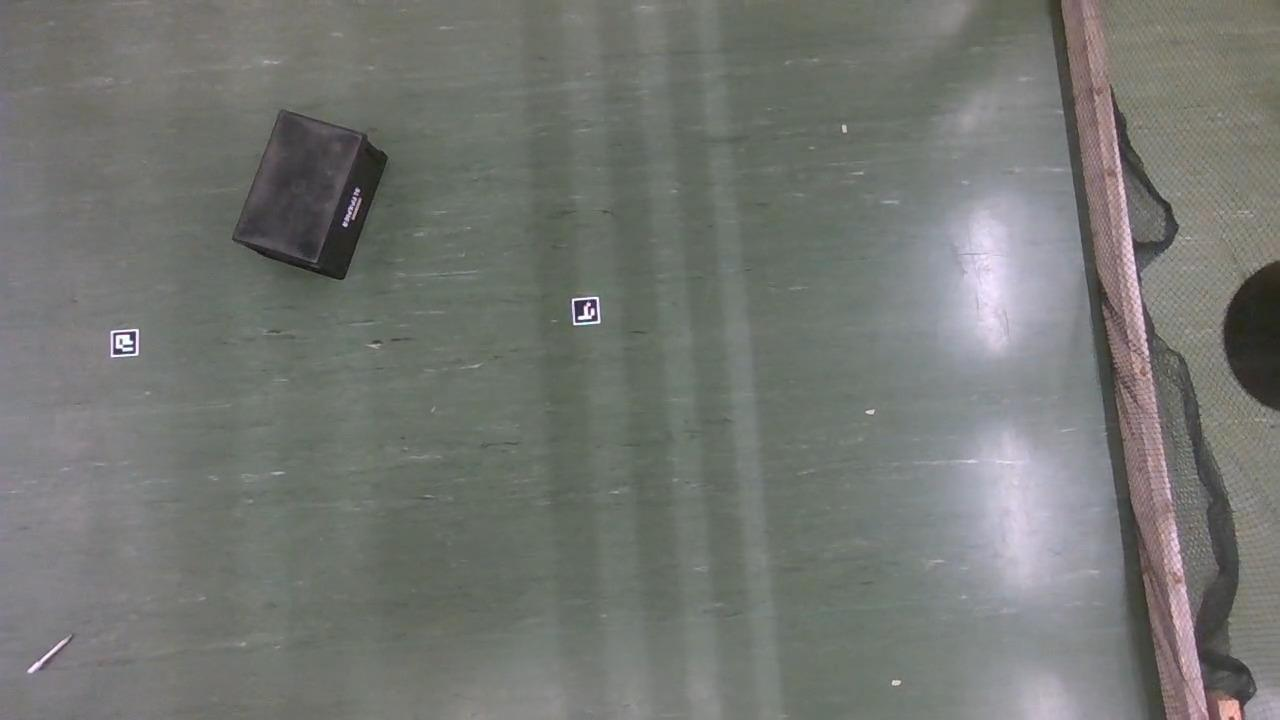probes: (28, 634, 73, 673)
rako: (232, 109, 386, 279)
